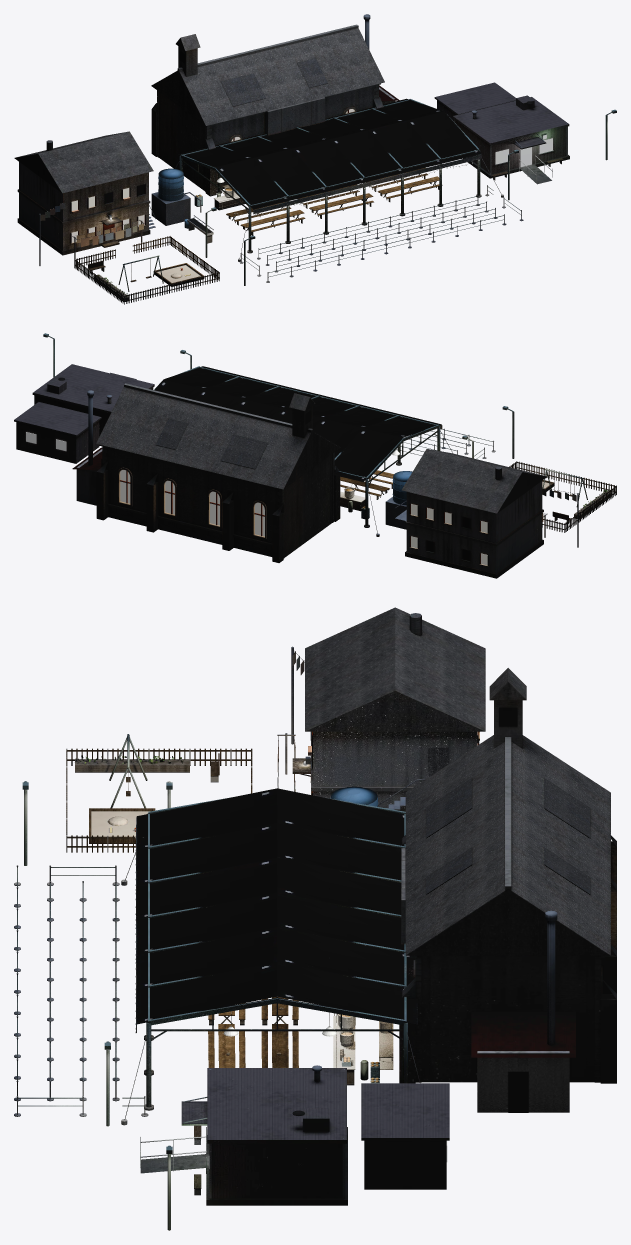
Rendered from soup_kitchen.glb.
The picture shows the model from 3 angles, top to bottom: view 1: azimuth 30°, elevation 25°; view 2: azimuth 150°, elevation 25°; view 3: azimuth 270°, elevation 25°; orthographic projection. The views are drawn at different scales.
Parts seen in each view (by area): view 1: props_canopy, props_shelter, roof, walls_ext, props_clinic, props_yard, props_queue, props_utility, props_tables, props_lights, props_serving; view 2: walls_ext, props_shelter, roof, props_canopy, props_clinic, props_yard, props_utility, props_tables, props_queue, props_serving, props_lights; view 3: props_canopy, roof, props_clinic, props_shelter, walls_ext, props_yard, props_tables, props_queue, props_serving, props_utility, props_lights.
Part boxes in pixels (box(x1,y1,x2,y2)): props_canopy: box(175, 98, 503, 261); props_shelter: box(14, 131, 155, 265); roof: box(151, 24, 399, 125); walls_ext: box(151, 34, 395, 196); props_clinic: box(434, 82, 569, 184); props_yard: box(74, 236, 219, 304); props_queue: box(239, 185, 523, 282); props_utility: box(151, 14, 370, 243); props_tables: box(226, 167, 442, 235); props_lights: box(108, 109, 616, 285); props_serving: box(194, 185, 245, 210); walls_ext: box(76, 393, 340, 562); props_shelter: box(394, 449, 578, 578); roof: box(72, 383, 340, 489); props_canopy: box(154, 366, 452, 536); props_clinic: box(14, 364, 154, 463); props_yard: box(509, 461, 616, 532); props_utility: box(87, 390, 412, 529); props_tables: box(340, 470, 393, 499); props_queue: box(396, 428, 495, 458); props_serving: box(340, 483, 369, 519); props_lights: box(43, 333, 514, 458); props_canopy: box(121, 788, 420, 1125); roof: box(405, 735, 610, 1057); props_clinic: box(140, 1065, 449, 1205); props_shelter: box(277, 607, 485, 811); walls_ext: box(399, 668, 616, 1112); props_yard: box(66, 734, 252, 852); props_tables: box(208, 997, 298, 1067); props_queue: box(14, 865, 148, 1116); props_serving: box(333, 1013, 393, 1085); props_utility: box(330, 786, 557, 1080); props_lights: box(22, 756, 336, 1230).
Size of what is drawn, in the model's own units: 57.06 by 13.82 by 29.37.
11 materials, 11 textured.
